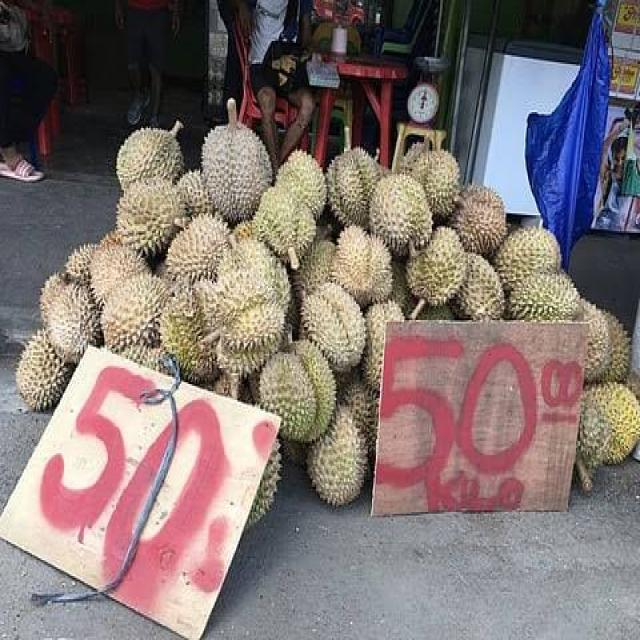mature: (261, 342, 339, 444), (201, 121, 273, 223), (111, 117, 192, 199), (326, 224, 395, 312), (302, 284, 368, 371), (367, 172, 433, 256), (256, 184, 316, 274), (324, 145, 383, 233), (47, 280, 102, 367), (166, 211, 231, 281), (406, 230, 467, 304), (454, 183, 510, 256)
